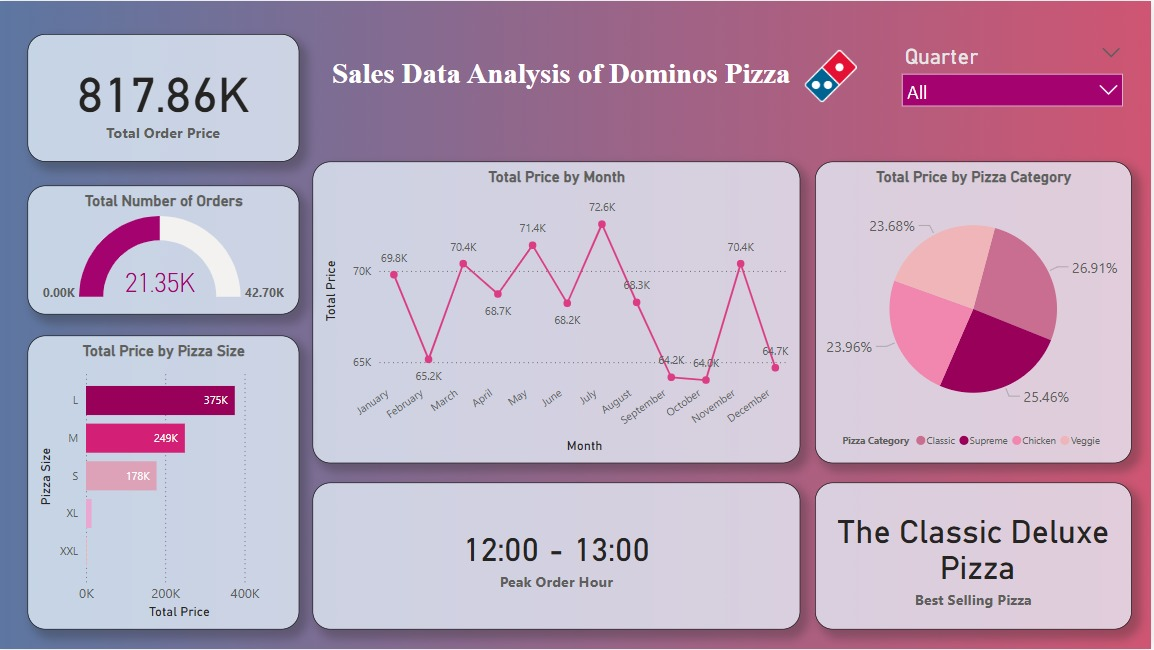

What the dashboard file says about the page in this screenshot:
{"tool":"powerbi","page":{"name":"Page 1","canvas":[1280,720],"ordinal":0},"visuals":[{"type":"card","fields":{"Values":["Sum(pizza_sales.total_price)"]},"box":[31.7,36.7,301.7,141.7],"z":0},{"type":"pieChart","fields":{"Y":["Sum(pizza_sales.total_price)"],"Category":["pizza_sales.pizza_category"]},"box":[906.7,178.3,351.7,335],"z":1000},{"type":"lineChart","fields":{"Category":["pizza_sales.order_date.Variation.Date Hierarchy.Month"],"Y":["Sum(pizza_sales.total_price)"]},"box":[348.3,178.3,541.7,335],"z":2000},{"type":"slicer","fields":{"Values":["pizza_sales.order_date.Variation.Date Hierarchy.Quarter"]},"box":[993.3,41.7,265,83.3],"z":3000},{"type":"barChart","fields":{"Category":["pizza_sales.pizza_size"],"Y":["Sum(pizza_sales.total_price)"]},"box":[31.7,371.7,301.7,326.7],"z":4000},{"type":"card","fields":{"Values":["pizza_sales.Best Selling Pizza"]},"box":[906.7,535,351.7,163.3],"z":5000},{"type":"card","fields":{"Values":["pizza_sales.Peak Order Hour"]},"box":[348.3,535,541.7,163.3],"z":6000},{"type":"gauge","fields":{"Y":["Count(pizza_sales.order_id)"]},"box":[31.7,205,301.7,143.3],"z":7000},{"type":"textbox","box":[365,56.7,541.7,53.3],"z":8000},{"type":"image","box":[890,48.3,68.3,70],"z":9000}]}

Visuals, with their boxes in screenshot pixels (x1, y1, x2, y2), scaled from the page's 1280x720 canvas onto the 1154x650 screenshot:
card - Sum(pizza_sales.total_price): <region>29, 33, 301, 161</region>
pieChart - Sum(pizza_sales.total_price) x pizza_sales.pizza_category: <region>817, 161, 1135, 463</region>
lineChart - pizza_sales.order_date.Variation.Date Hierarchy.Month x Sum(pizza_sales.total_price): <region>314, 161, 802, 463</region>
slicer - pizza_sales.order_date.Variation.Date Hierarchy.Quarter: <region>896, 38, 1134, 113</region>
barChart - pizza_sales.pizza_size x Sum(pizza_sales.total_price): <region>29, 336, 301, 630</region>
card - pizza_sales.Best Selling Pizza: <region>817, 483, 1135, 630</region>
card - pizza_sales.Peak Order Hour: <region>314, 483, 802, 630</region>
gauge - Count(pizza_sales.order_id): <region>29, 185, 301, 314</region>
textbox: <region>329, 51, 817, 99</region>
image: <region>802, 44, 864, 107</region>
